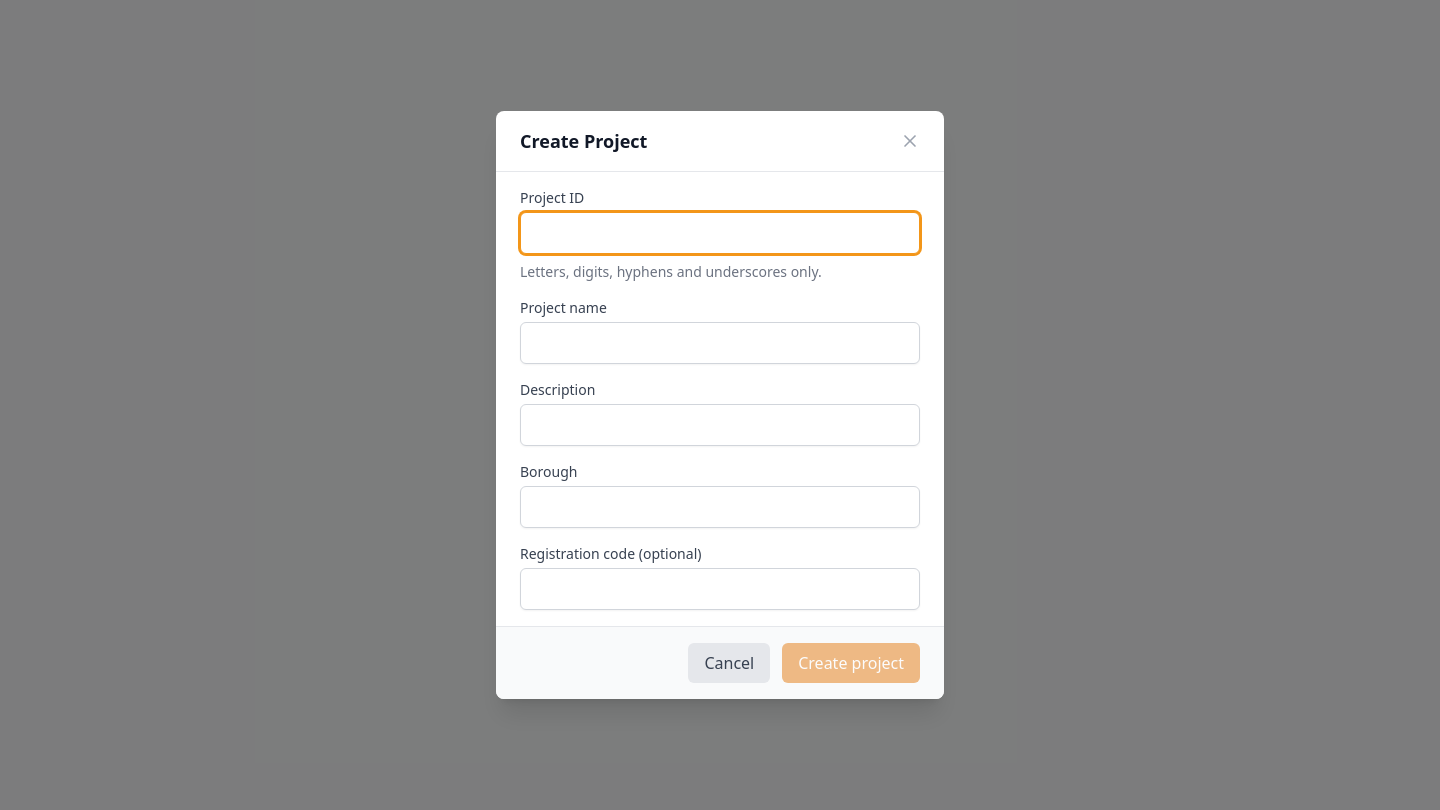
Test: CreateProjectModal › turns Save on once every field but the registration code is in
Type "TEST001" into the field labelled "Project ID" at (720, 233), box [520,212,920,254]
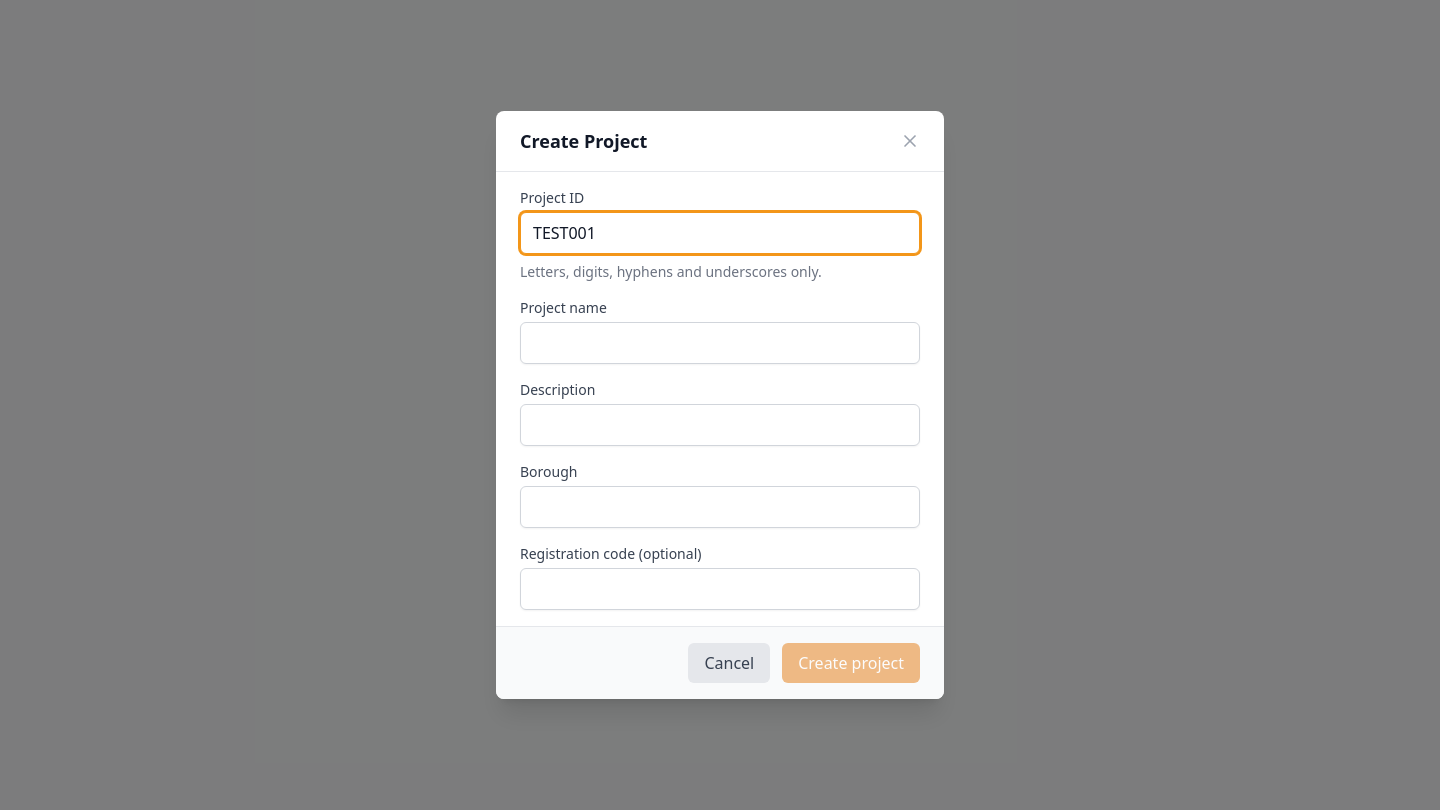
Type "Smoke" into the field labelled "Project name" at (720, 343), box [520,322,920,364]
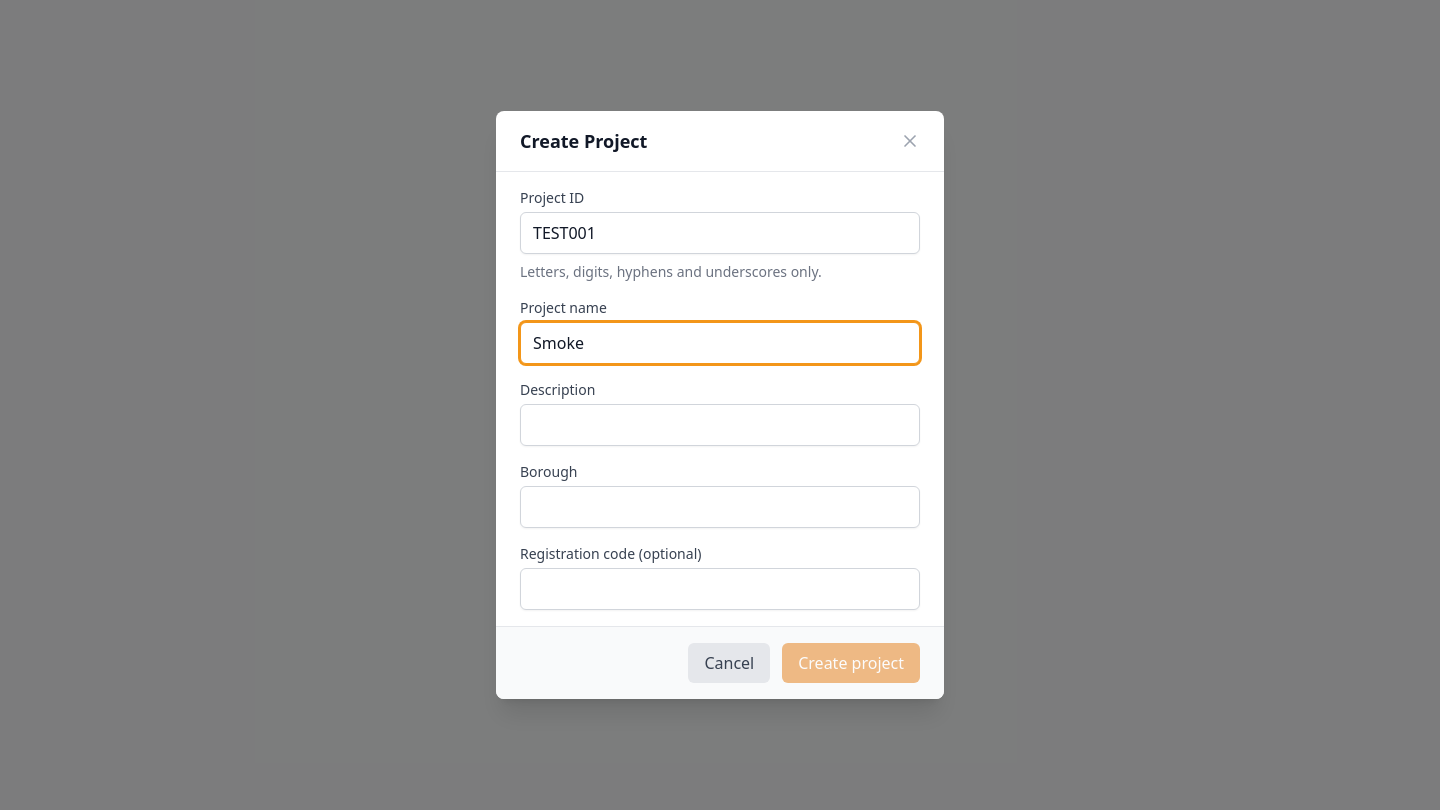
Type "Smoke test" into the field labelled "Description" at (720, 425), box [520,404,920,446]
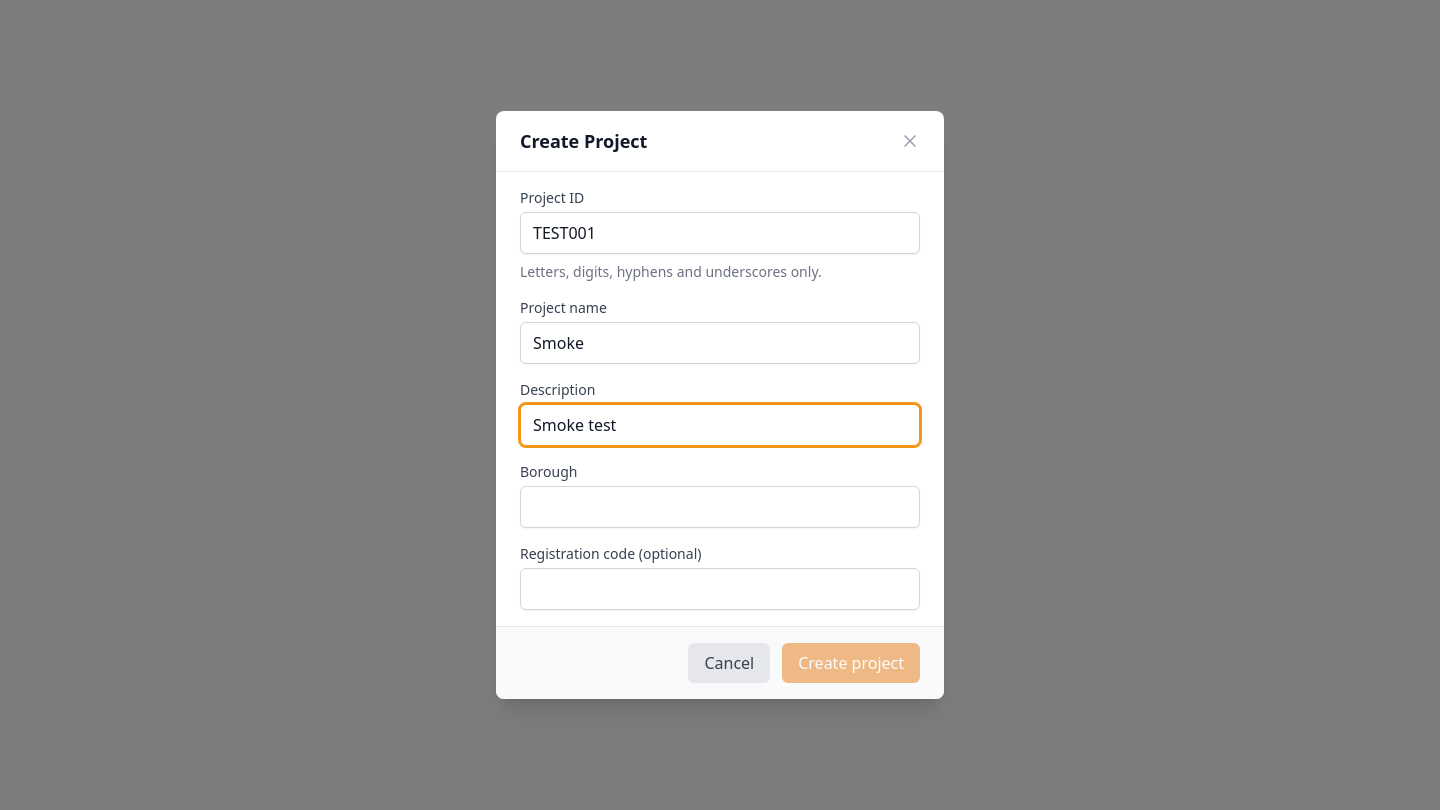
Type "Manhattan" into the field labelled "Borough" at (720, 507), box [520,486,920,528]
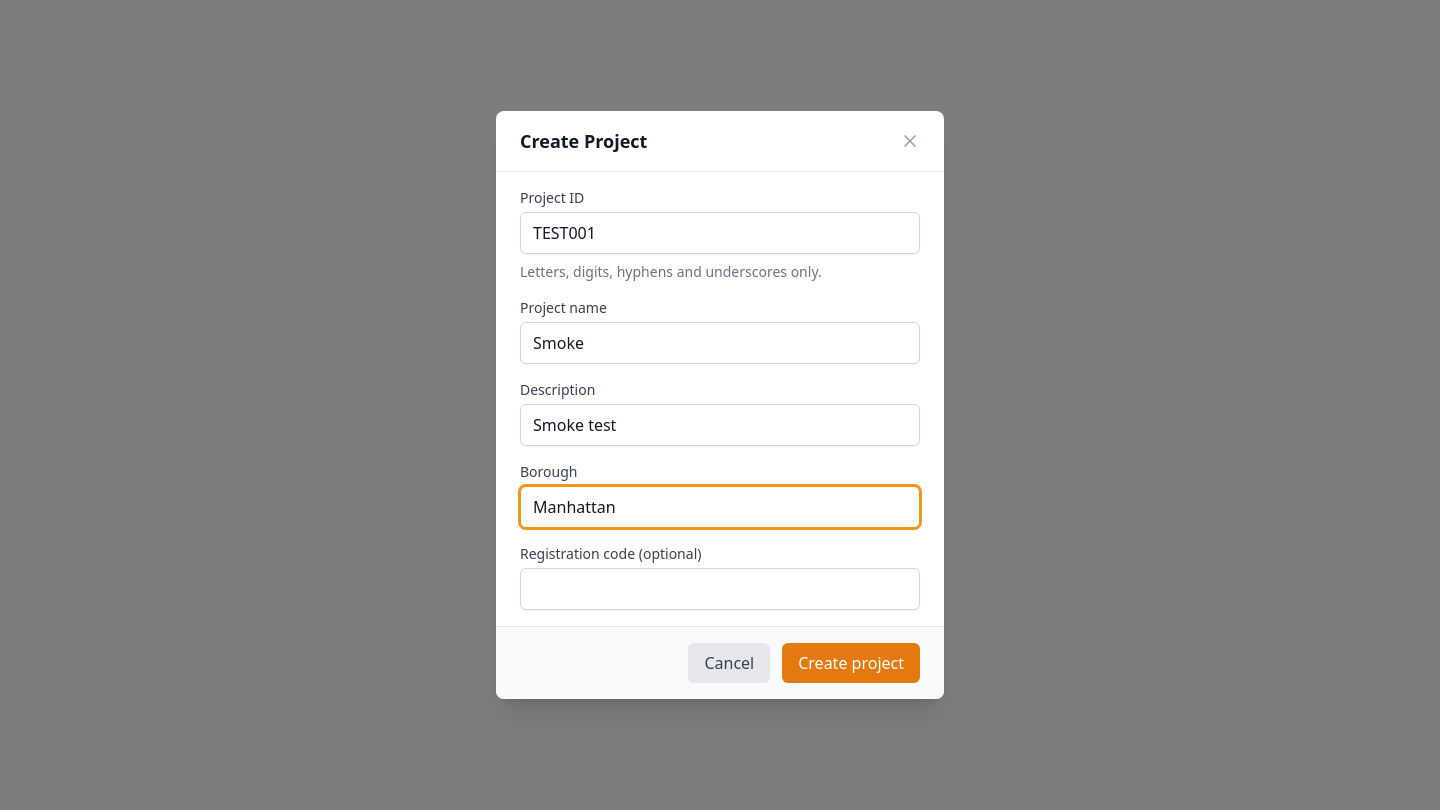
Result: the button "Create project" is enabled at [782,643,920,683]
